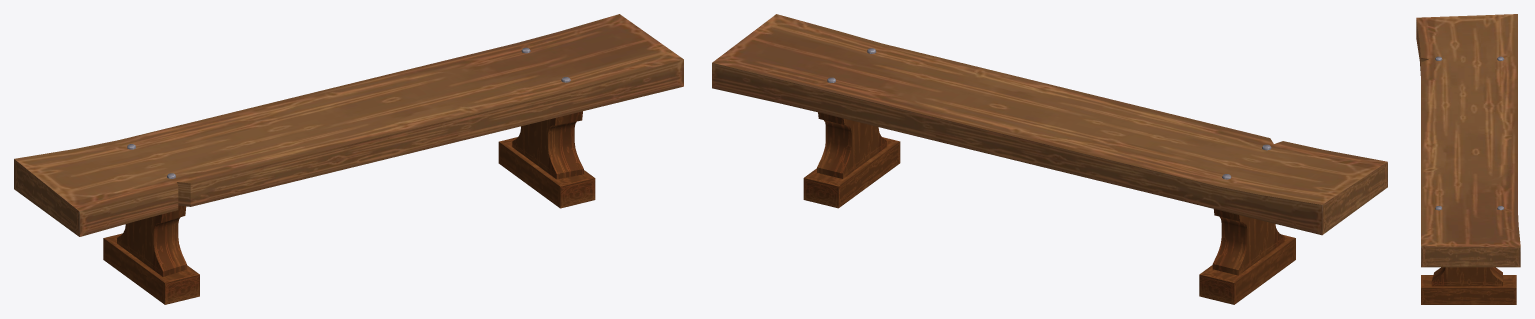
Rendered from Bench.gltf.
3 views of the same model, side by side, from view 1: azimuth 30°, elevation 25°; view 2: azimuth 150°, elevation 25°; view 3: azimuth 270°, elevation 25° (orthographic). The views are drawn at different scales.
Parts seen in each view (by area): view 1: Bench; view 2: Bench; view 3: Bench.
Boxes of the visible parts, box(x1,y1,x2,y2) form: Bench: box(14, 14, 683, 304); Bench: box(712, 14, 1387, 304); Bench: box(1416, 14, 1520, 304).
Size of the model in its own units: 2.78 by 0.5332 by 0.5342.
2 materials, 2 textured.
